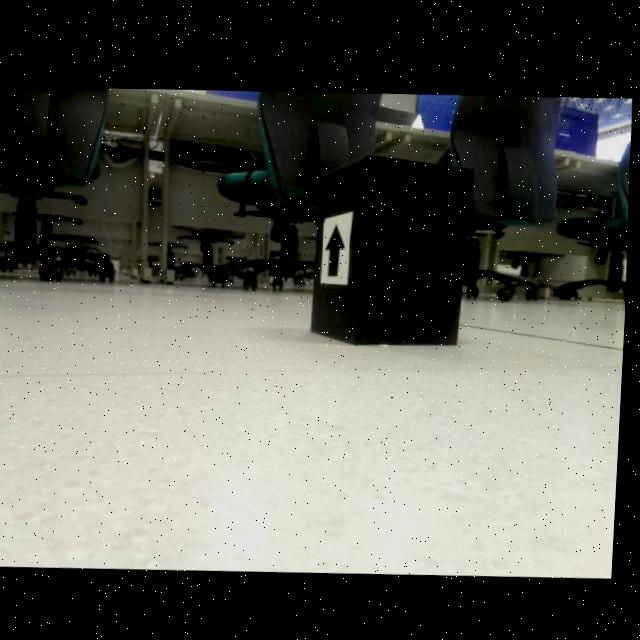UP: (326, 220, 350, 275)
